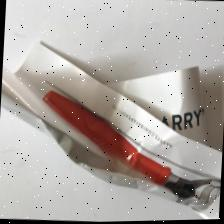paper: (0, 21, 224, 216)
